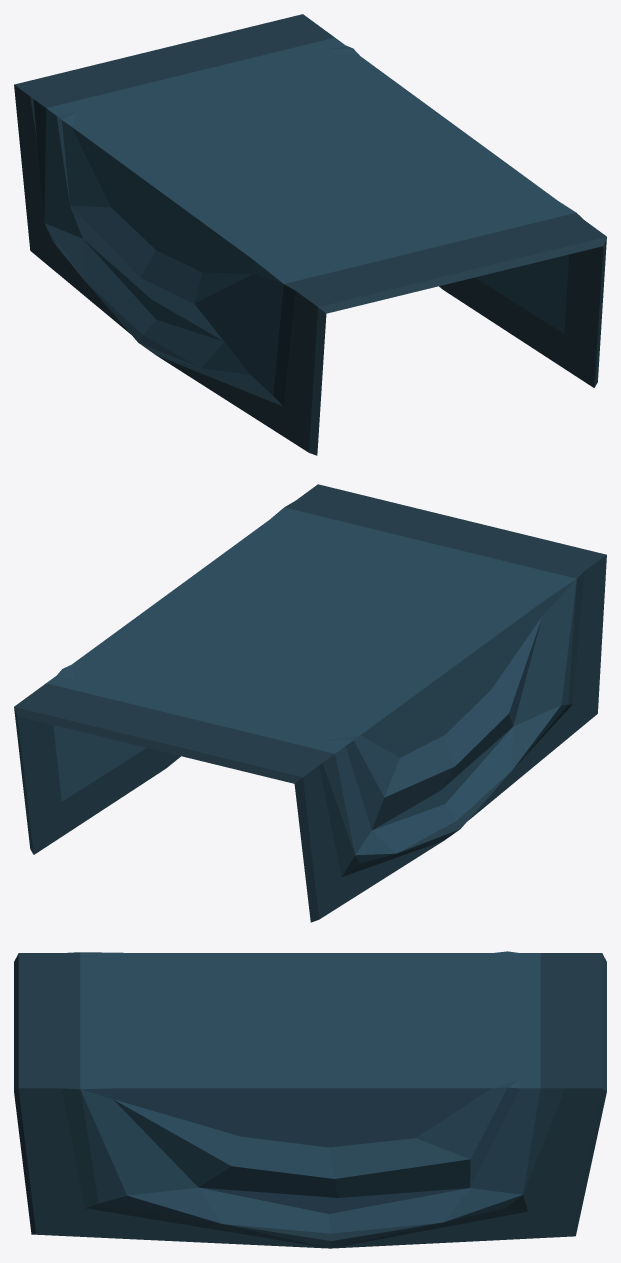
The model's file is kingdom_SM_Prop_TableCloth_08.gltf.
3 views of the same model, one above another, from view 1: azimuth 30°, elevation 25°; view 2: azimuth 150°, elevation 25°; view 3: azimuth 270°, elevation 25° (orthographic). The views are drawn at different scales.
Visible parts, largest first — view 1: SM_Prop_TableCloth_08; view 2: SM_Prop_TableCloth_08; view 3: SM_Prop_TableCloth_08.
Part boxes in pixels (x1=…): SM_Prop_TableCloth_08: x1=14, y1=14, x2=606, y2=455; SM_Prop_TableCloth_08: x1=14, y1=484, x2=606, y2=922; SM_Prop_TableCloth_08: x1=14, y1=951, x2=606, y2=1248.
Bounding box in the file's own units: 1.24 × 0.6196 × 2.05.
1 material, 1 textured.
